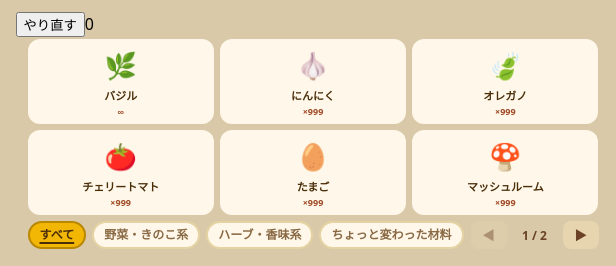
Purchased onion stays reachable via page nav (Independent Review P1, PR #26) › the 前のページ button is disabled on page 1 and 次のページ disabled on the last page
The width and height of the screenshot is (616, 266).
expect the button named "前のページ" is disabled: met, box [470,221,506,249]
Step 1. Click the button named "次のページ" → (580, 235), box [562,221,598,249]
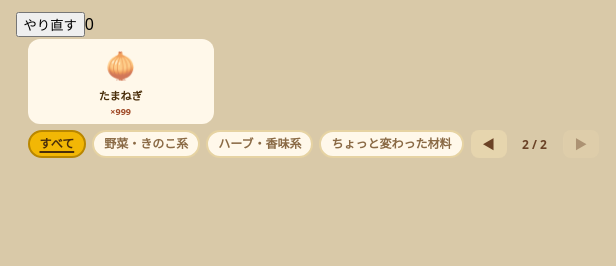
expect the button named "前のページ" is enabled: met, box [470,130,506,158]
expect the button named "次のページ" is disabled: met, box [562,130,598,158]
